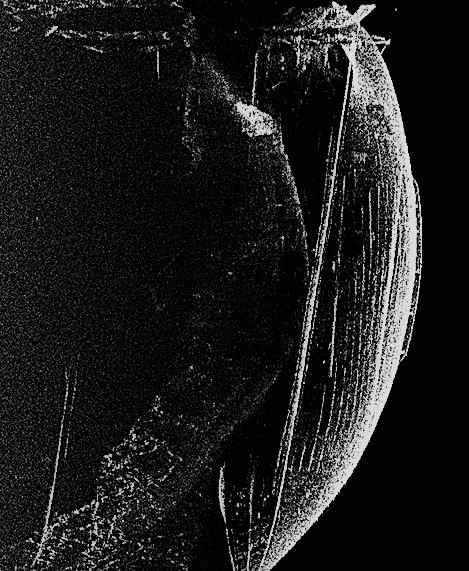ship: (213, 0, 426, 569)
